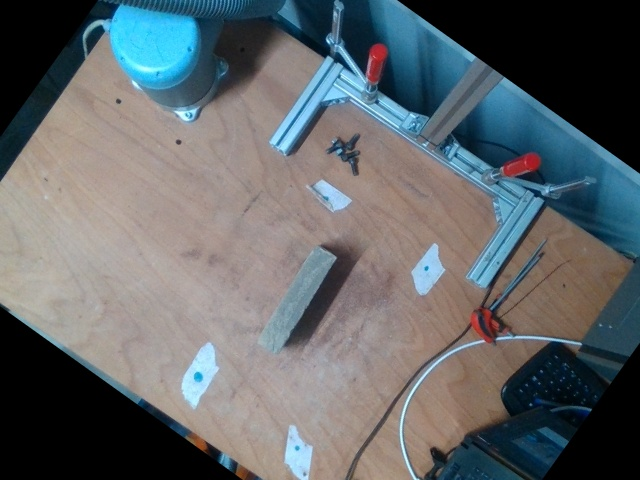brick-side: (257, 247, 335, 354)
